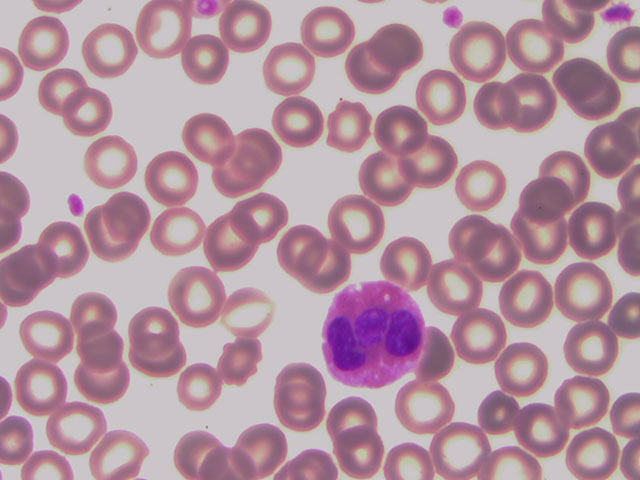Platelets: (600, 1, 639, 27), (438, 2, 467, 28), (65, 193, 89, 217), (197, 2, 226, 21)
RBC: (300, 3, 361, 59), (18, 14, 71, 70), (31, 63, 84, 119), (66, 85, 119, 141), (83, 136, 136, 192), (107, 190, 160, 246), (87, 208, 140, 264), (44, 220, 97, 276), (17, 245, 70, 301), (19, 310, 72, 366), (61, 280, 114, 336), (71, 312, 124, 368), (77, 355, 130, 411), (17, 358, 70, 414), (49, 395, 102, 451), (95, 424, 148, 480), (172, 356, 225, 412), (214, 330, 267, 386), (225, 285, 278, 341), (169, 269, 222, 325), (128, 296, 181, 352), (134, 330, 187, 386), (198, 217, 251, 273), (229, 189, 282, 245), (143, 204, 196, 260), (149, 146, 202, 202), (182, 110, 235, 166), (209, 147, 262, 203), (231, 122, 284, 178), (272, 94, 325, 150), (263, 40, 316, 96), (181, 32, 234, 88), (137, 2, 190, 58), (89, 20, 142, 76), (344, 44, 397, 100), (371, 20, 424, 76), (418, 68, 471, 124), (373, 98, 426, 154), (403, 129, 456, 185), (360, 151, 413, 207), (333, 193, 386, 249), (304, 239, 357, 295), (278, 224, 331, 280), (319, 98, 372, 154), (455, 159, 508, 215), (379, 231, 432, 287), (442, 209, 495, 265), (473, 227, 526, 283), (424, 259, 477, 315), (453, 302, 506, 358), (497, 274, 550, 330), (559, 263, 612, 319), (567, 203, 620, 259), (514, 205, 567, 261), (518, 174, 571, 230), (537, 144, 590, 200), (579, 119, 632, 175), (573, 72, 626, 128), (555, 54, 608, 110), (504, 75, 557, 131), (473, 76, 526, 132), (450, 25, 503, 81), (507, 20, 560, 76), (566, 317, 619, 373), (494, 340, 547, 396), (475, 382, 528, 438), (513, 403, 566, 459), (550, 377, 603, 433), (560, 424, 613, 480), (435, 424, 488, 480), (400, 380, 453, 436), (335, 424, 388, 480), (325, 388, 378, 444), (274, 384, 327, 440), (272, 354, 325, 410), (238, 420, 291, 476), (172, 421, 225, 477), (1, 413, 53, 469), (221, 1, 274, 51)
WBC: (324, 281, 424, 386)
